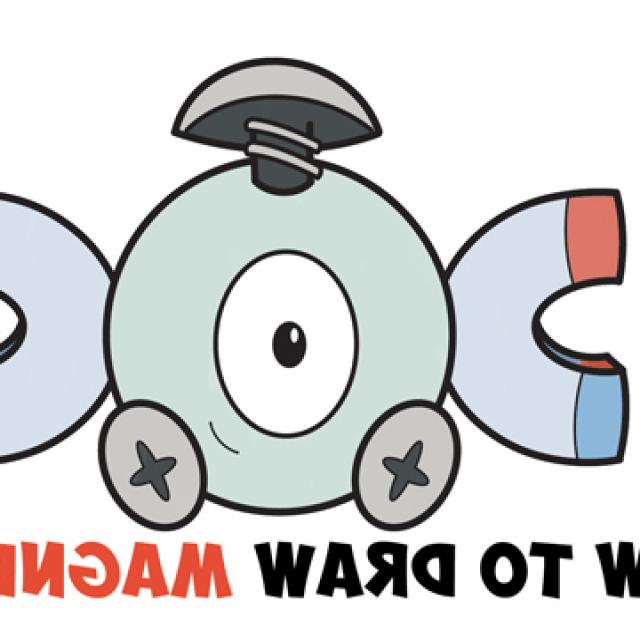Magnemite: (0, 60, 640, 525)
